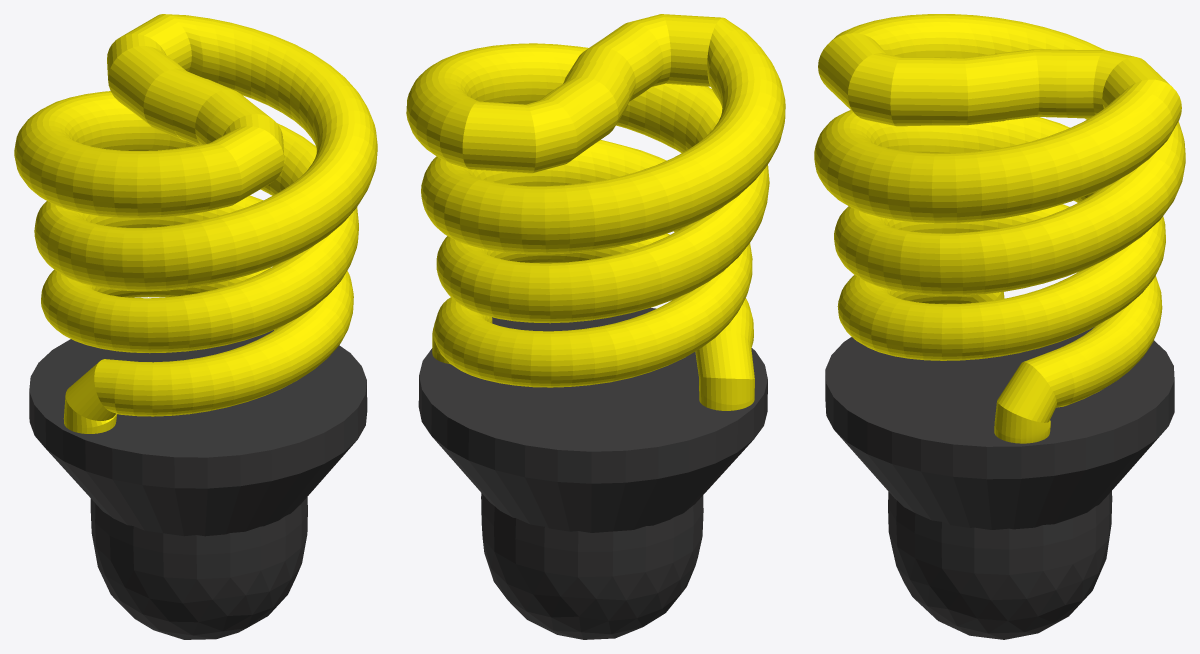
File: lightbulb.glb
The picture shows the model from 3 angles, left to right: view 1: azimuth 30°, elevation 25°; view 2: azimuth 150°, elevation 25°; view 3: azimuth 270°, elevation 25°; orthographic projection. The views are drawn at different scales.
Visible parts, largest first — view 1: Cylinder.003_Cylinder.002; view 2: Cylinder.003_Cylinder.002; view 3: Cylinder.003_Cylinder.002.
Part boxes in pixels (<box>): Cylinder.003_Cylinder.002: <box>14,14,377,639</box>; Cylinder.003_Cylinder.002: <box>406,14,785,639</box>; Cylinder.003_Cylinder.002: <box>814,14,1185,639</box>.
Bounding box in the file's own units: 1.46 × 2.43 × 1.43.
Materials: 1 (1 with a texture image).
